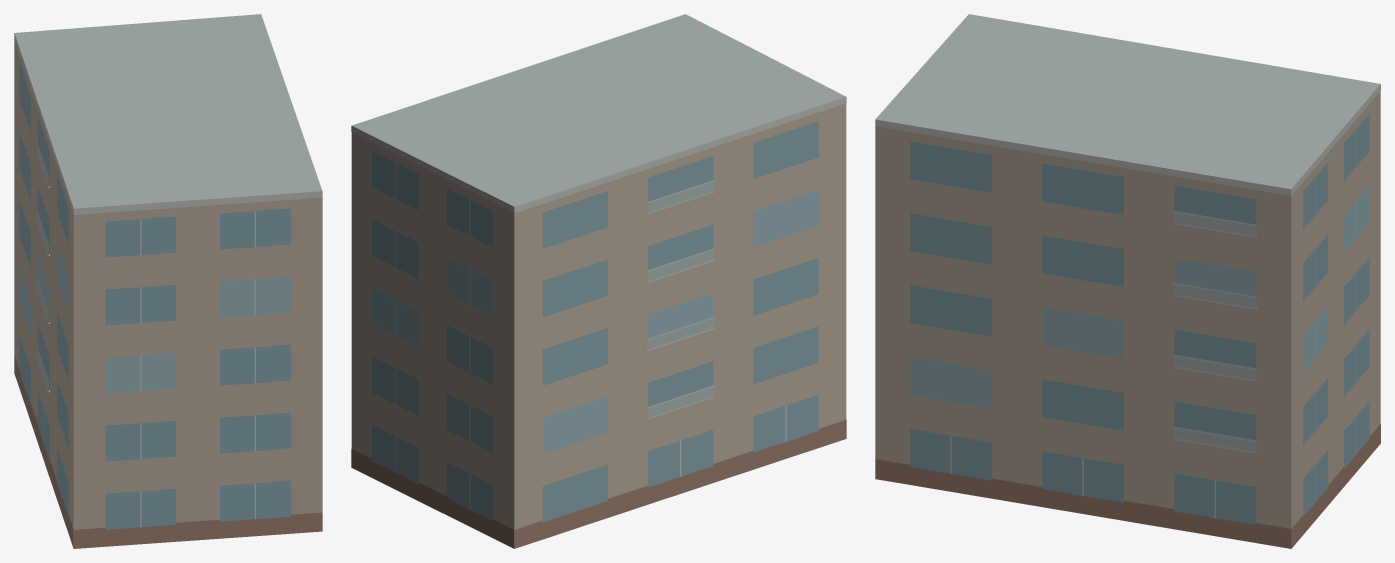
The model's file is survey-upis-32984378.glb.
3 views of the same model, side by side, from view 1: azimuth 30°, elevation 25°; view 2: azimuth 150°, elevation 25°; view 3: azimuth 270°, elevation 25° (orthographic). The views are drawn at different scales.
Parts seen in each view (by area): view 1: survey-upis-32984378.tmp; view 2: survey-upis-32984378.tmp; view 3: survey-upis-32984378.tmp.
Boxes of the visible parts, bbox=[...] form: survey-upis-32984378.tmp: bbox=[14, 14, 322, 548]; survey-upis-32984378.tmp: bbox=[351, 14, 846, 548]; survey-upis-32984378.tmp: bbox=[875, 14, 1380, 548].
Size of the model in its own units: 13.6 by 13 by 16.58.
